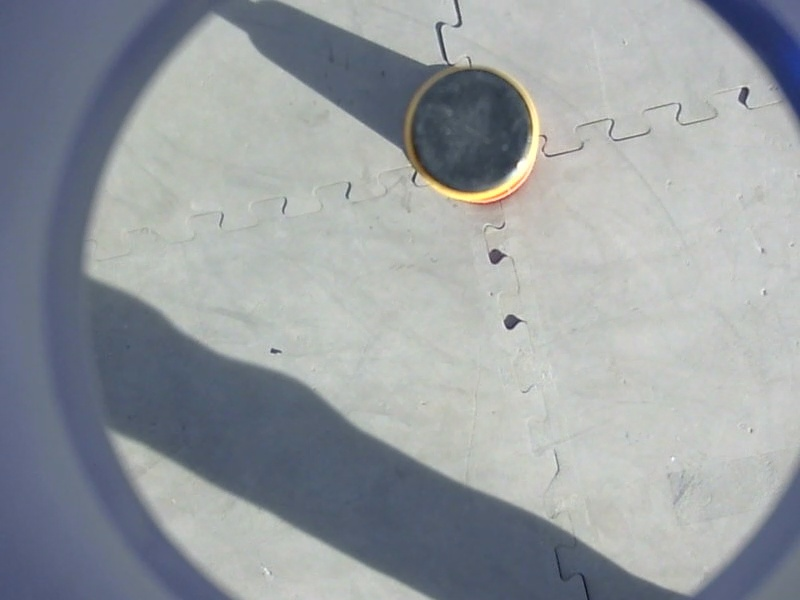tip: (391, 58, 548, 209)
